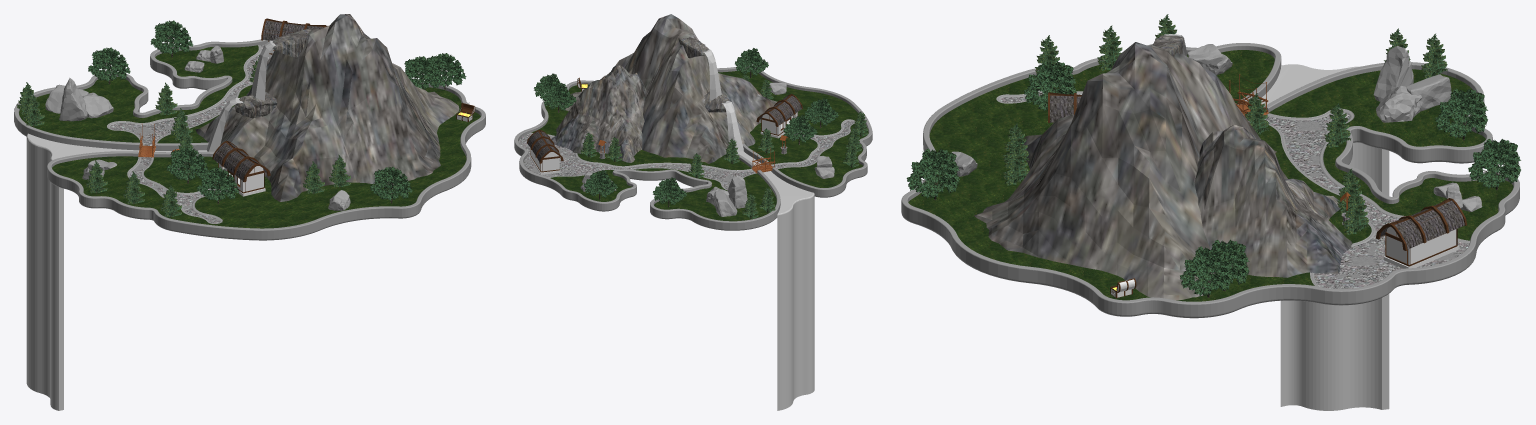
File: forest_island.gltf
3 renders of one model, left to right at view 1: azimuth 30°, elevation 25°; view 2: azimuth 150°, elevation 25°; view 3: azimuth 270°, elevation 25°, orthographic. The views are drawn at different scales.
Visible parts, largest first — view 1: ground, mountain, water.001, AM113_061_Aesculus_Glabra_Defintion1, AM113_045_Pinus_Defintion.010, G-__555564, G-__555996, G-__555771, G-__555582, G-__555789, G-__555573, G-__556014 (+1 smaller); view 2: ground, mountain, water.001, AM113_061_Aesculus_Glabra_Defintion1, AM113_045_Pinus_Defintion.010, G-__555564, G-__555582, G-__555996, G-__555591, G-__556023, G-__555789, G-__555573 (+1 smaller); view 3: mountain, ground, water.001, AM113_061_Aesculus_Glabra_Defintion1, AM113_045_Pinus_Defintion.010, G-__555582, G-__555591, G-__555996, G-__556014, G-__556023, G-__555564.
Boxes of the visible parts, left/top/right/bottom form: ground: left=14, top=39, right=485, bottom=240; mountain: left=195, top=14, right=459, bottom=201; water.001: left=26, top=40, right=275, bottom=410; AM113_061_Aesculus_Glabra_Defintion1: left=88, top=20, right=466, bottom=200; AM113_045_Pinus_Defintion.010: left=17, top=55, right=350, bottom=216; G-__555564: left=212, top=141, right=270, bottom=193; G-__555996: left=59, top=78, right=87, bottom=121; G-__555771: left=234, top=92, right=277, bottom=118; G-__555582: left=261, top=18, right=327, bottom=54; G-__555789: left=272, top=29, right=311, bottom=58; G-__555573: left=219, top=163, right=265, bottom=196; G-__556014: left=82, top=92, right=113, bottom=118; ground: left=514, top=66, right=872, bottom=230; mountain: left=551, top=14, right=777, bottom=163; water.001: left=703, top=49, right=814, bottom=410; AM113_061_Aesculus_Glabra_Defintion1: left=534, top=48, right=838, bottom=204; AM113_045_Pinus_Defintion.010: left=580, top=74, right=868, bottom=218; G-__555564: left=756, top=94, right=802, bottom=135; G-__555582: left=527, top=130, right=563, bottom=172; G-__555996: left=728, top=176, right=747, bottom=208; G-__555591: left=530, top=150, right=560, bottom=174; G-__556023: left=713, top=191, right=737, bottom=216; G-__555789: left=679, top=37, right=709, bottom=58; G-__555573: left=760, top=112, right=797, bottom=138; mountain: left=974, top=42, right=1352, bottom=300; ground: left=901, top=43, right=1519, bottom=318; water.001: left=1164, top=34, right=1389, bottom=410; AM113_061_Aesculus_Glabra_Defintion1: left=906, top=61, right=1520, bottom=296; AM113_045_Pinus_Defintion.010: left=1002, top=14, right=1447, bottom=234; G-__555582: left=1376, top=198, right=1466, bottom=266; G-__555591: left=1383, top=226, right=1458, bottom=268; G-__555996: left=1373, top=46, right=1413, bottom=101; G-__556014: left=1376, top=85, right=1422, bottom=122; G-__556023: left=1406, top=74, right=1451, bottom=111; G-__555564: left=1048, top=92, right=1081, bottom=122.
Size of the model in its own units: 60.07 by 54.2 by 59.
